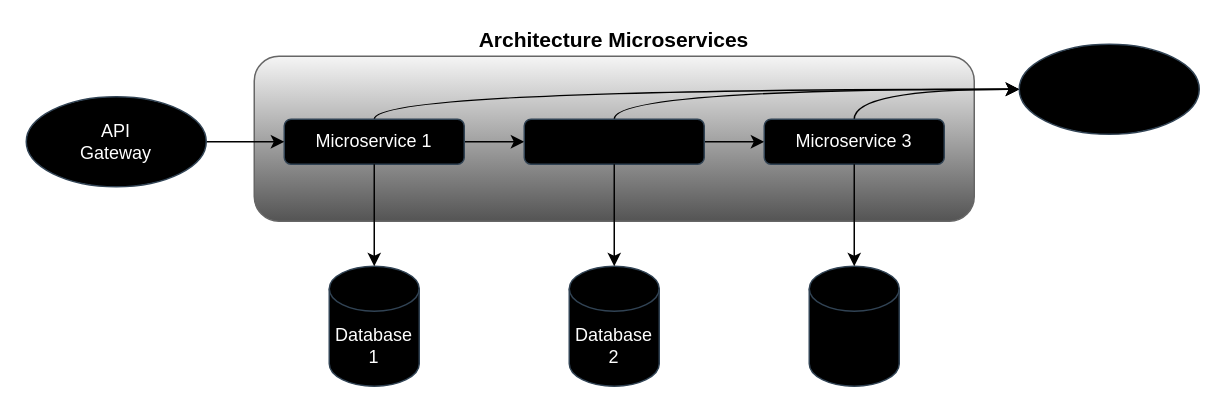
Image size: 1226x413. Some labels were removed from this diagram. Here are the shapes that lost their labels. From the top down, the centre of each, then its label:
(x=1108, y=88): Service Discovery
(x=613, y=141): Microservice 2
(x=853, y=325): Database 3
